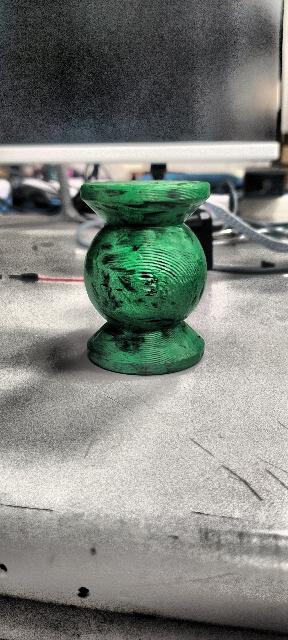green: (79, 179, 211, 375)
